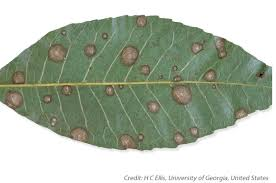unhealthy: (7, 12, 264, 166)
